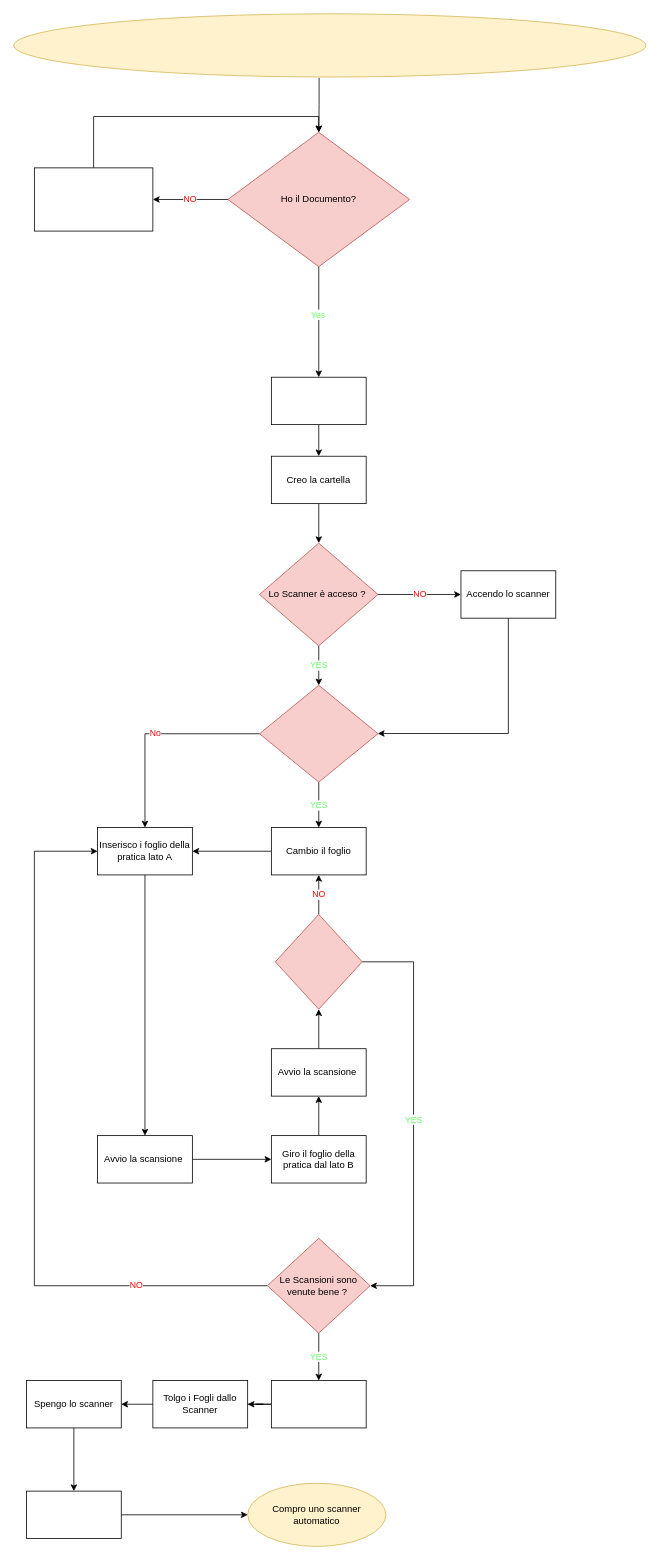
Image size: 660x1560. Some labels were removed from this diagram. The centre of each missing label's shape, as x and y in pixels:
"Accendo il Computer" belongs at (x=318, y=400).
"C'é un foglio dentro lo scanner?" belongs at (x=318, y=733).
"Continuo a cercare" belongs at (x=93, y=199).
"Ho finito di scansionare tutti i fogli?" belongs at (x=318, y=961).
"Salvo le scansioni nella cartella" belongs at (x=318, y=1404).
"SCANSIONARE UN DOCUMENTO SU PIU FOGLI FRONTE-RETRO" belongs at (x=329, y=45).
"Vado su Amazon" belongs at (x=73, y=1514).
